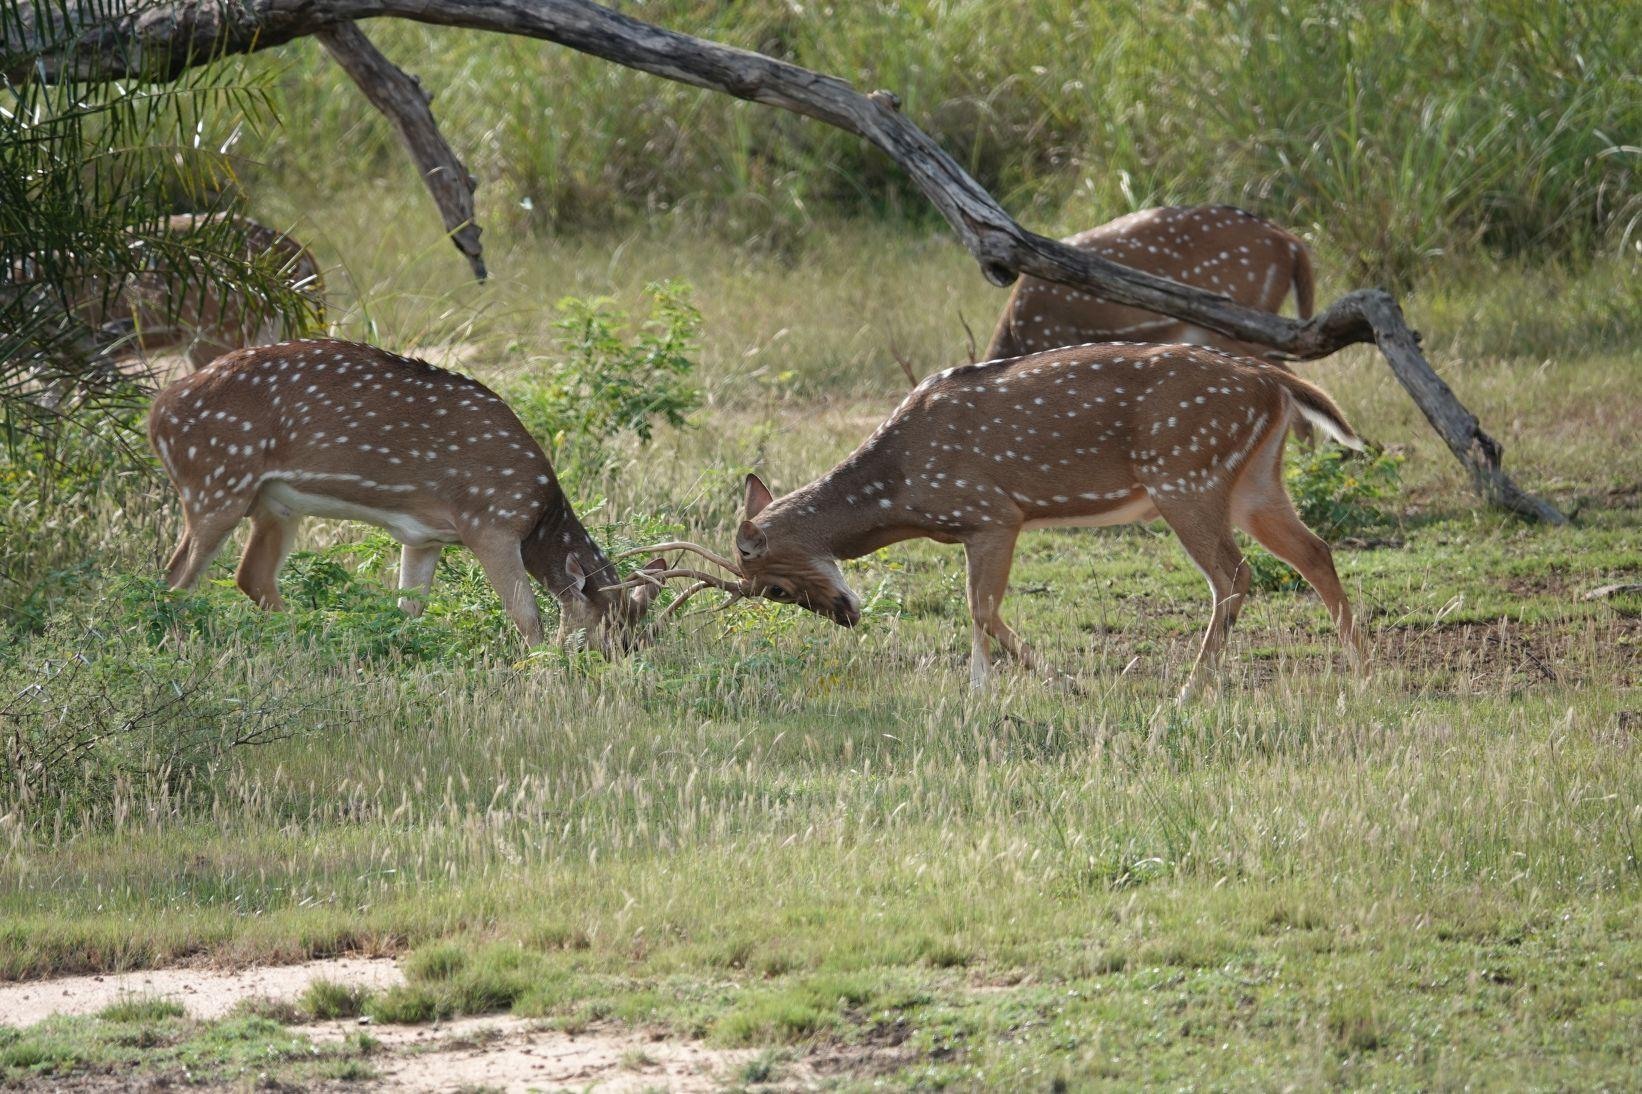Deer: (692, 342, 1364, 700), (148, 339, 681, 650), (1069, 205, 1312, 310)
